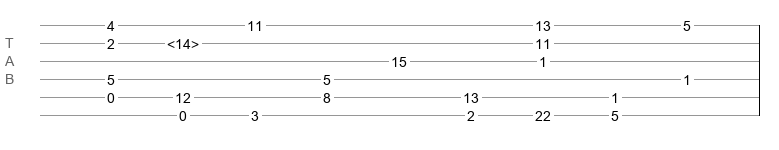0: (107, 90, 115, 100), (179, 108, 187, 118)
1: (539, 54, 547, 64), (611, 90, 619, 100), (683, 72, 691, 82)
11: (247, 18, 263, 28), (535, 36, 551, 46)
12: (175, 90, 191, 100)
13: (463, 90, 479, 100), (535, 18, 551, 28)
15: (391, 54, 407, 64)
2: (107, 36, 115, 46), (467, 108, 475, 118)
22: (535, 108, 551, 118)
3: (251, 108, 259, 118)
4: (107, 18, 115, 28)
5: (107, 72, 115, 82), (323, 72, 331, 82), (611, 108, 619, 118), (683, 18, 691, 28)
8: (323, 90, 331, 100)
harmonic: (167, 36, 199, 46)
